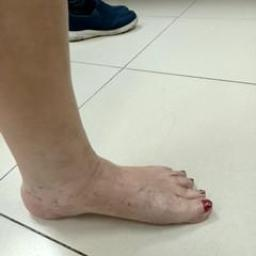Medial View -Left Foot-: (1, 134, 236, 241)
